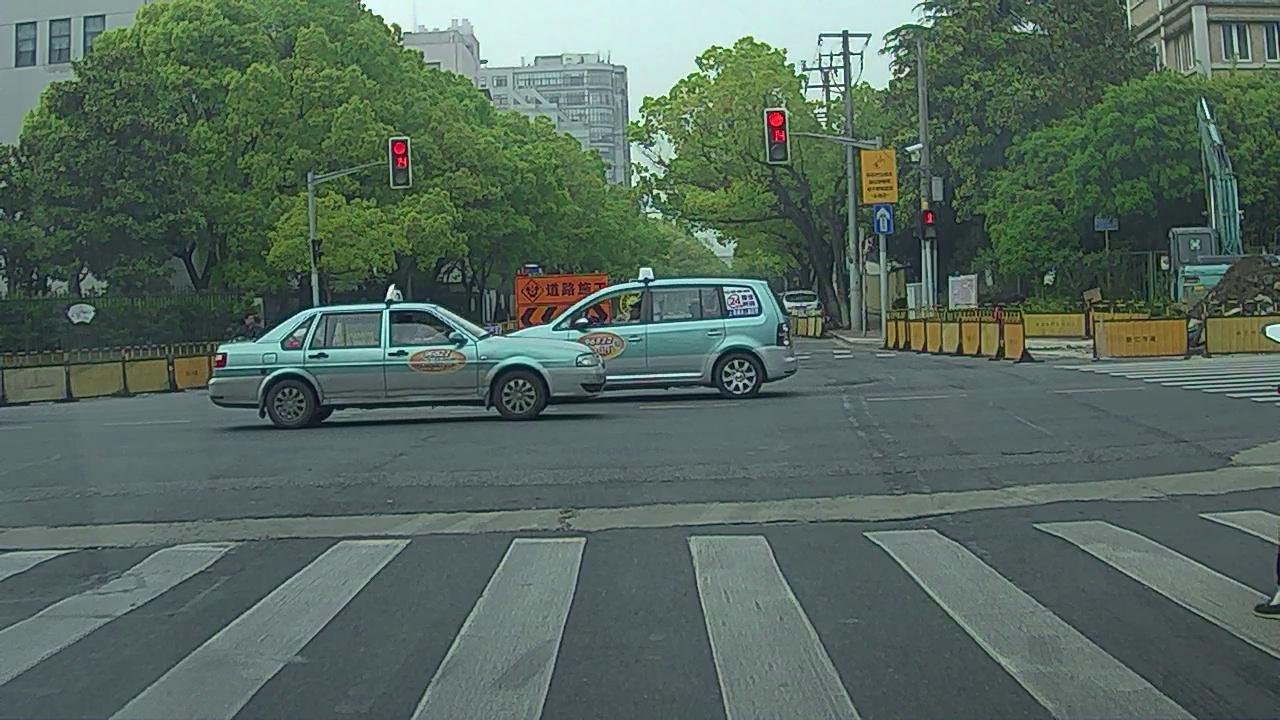traffic_light: (765, 111, 788, 161), (392, 139, 409, 185)
